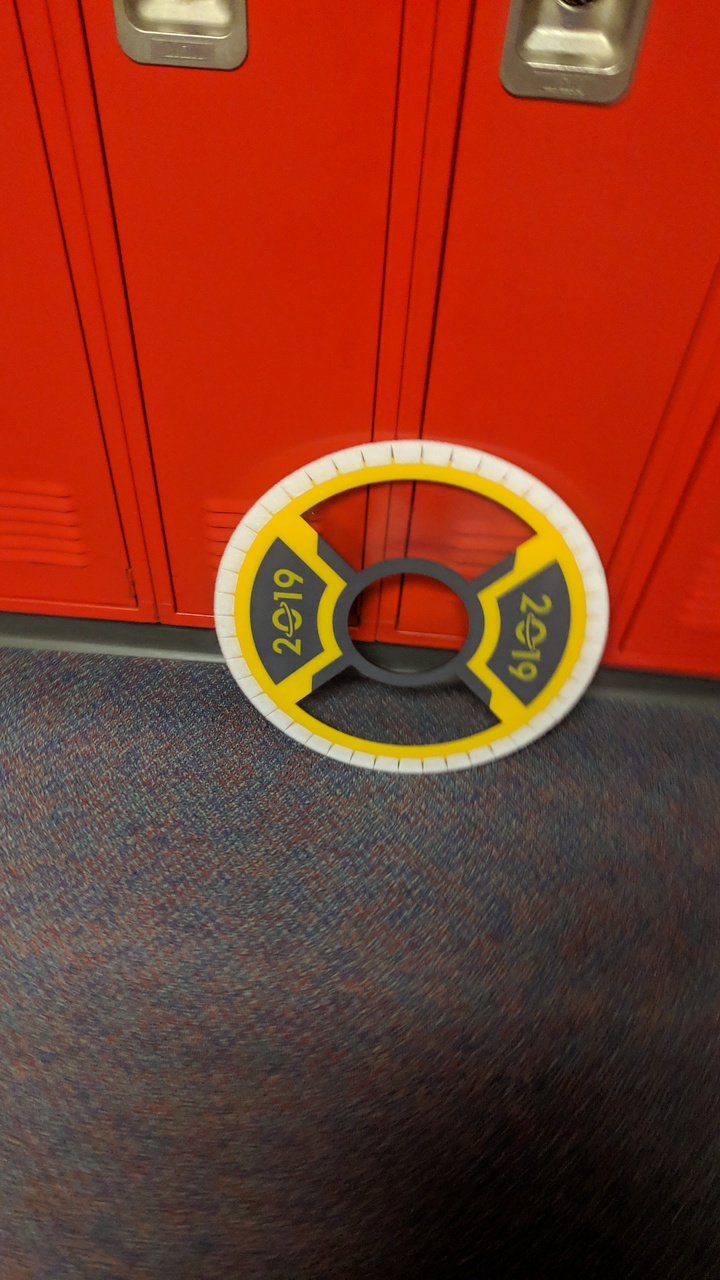hatch_panel: (202, 430, 623, 783)
